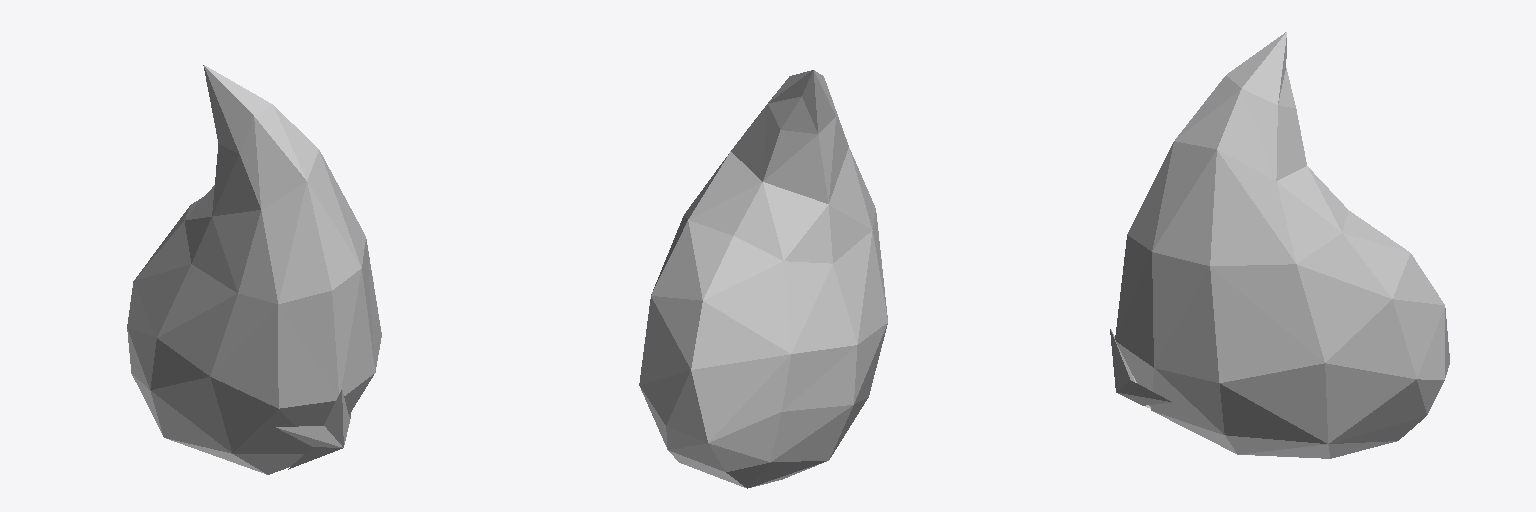
File: moontear.obj
3 views of the same model, side by side, from view 1: azimuth 30°, elevation 25°; view 2: azimuth 150°, elevation 25°; view 3: azimuth 270°, elevation 25° (orthographic).
Visible parts, largest first — view 1: node_00D37663, node_00FB0D27; view 2: node_00D37663; view 3: node_00D37663, node_00FB0D27.
Part boxes in pixels (x1,y1,x2,y2): node_00D37663: (127, 65, 381, 474); node_00FB0D27: (276, 390, 350, 469); node_00D37663: (639, 70, 887, 488); node_00D37663: (1115, 32, 1449, 458); node_00FB0D27: (1110, 329, 1171, 408).
Bounding box in the file's own units: 12.4 × 24.87 × 19.1.